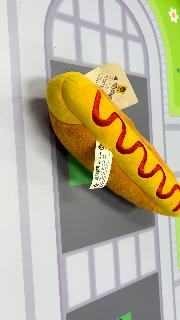hotdog: (46, 70, 180, 218)
